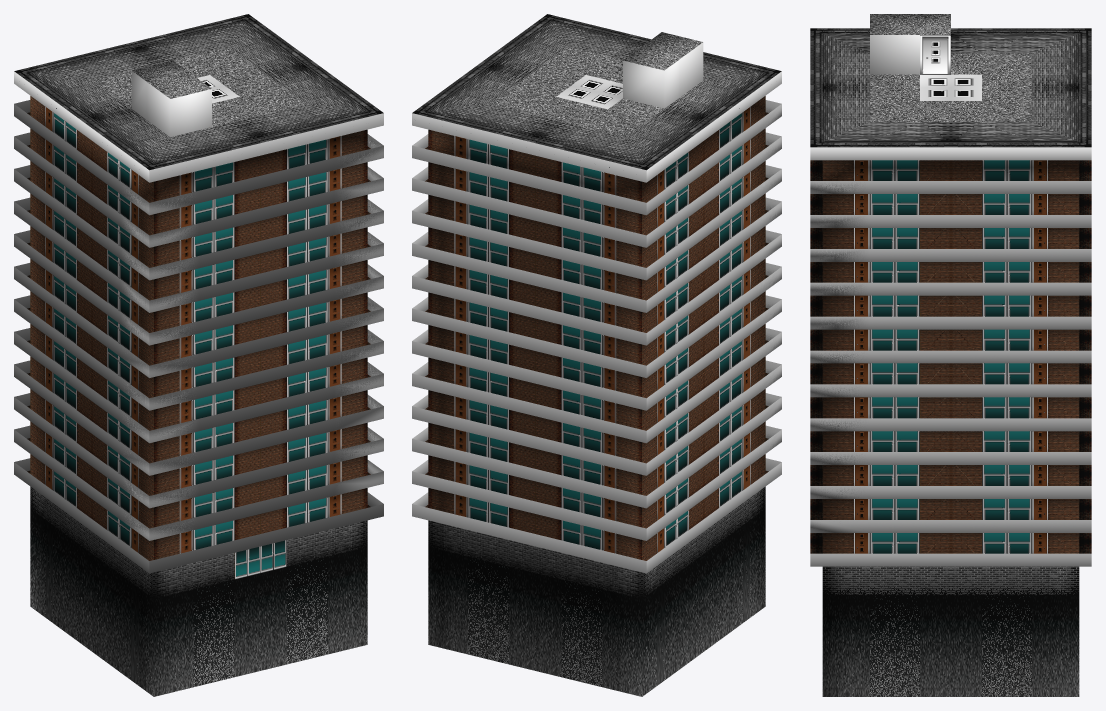
File: gallerijflat_mod1_1a.fbx
The picture shows the model from 3 angles, left to right: view 1: azimuth 30°, elevation 25°; view 2: azimuth 150°, elevation 25°; view 3: azimuth 270°, elevation 25°; orthographic projection. The views are drawn at different scales.
Visible parts, largest first — view 1: gallerijflat_mod1_1a; view 2: gallerijflat_mod1_1a; view 3: gallerijflat_mod1_1a.
Part boxes in pixels (x1,y1,x2,y2): gallerijflat_mod1_1a: (14, 14, 383, 696); gallerijflat_mod1_1a: (412, 14, 781, 696); gallerijflat_mod1_1a: (810, 14, 1091, 696).
Size of the model in its own units: 2260 by 5265 by 2260.
